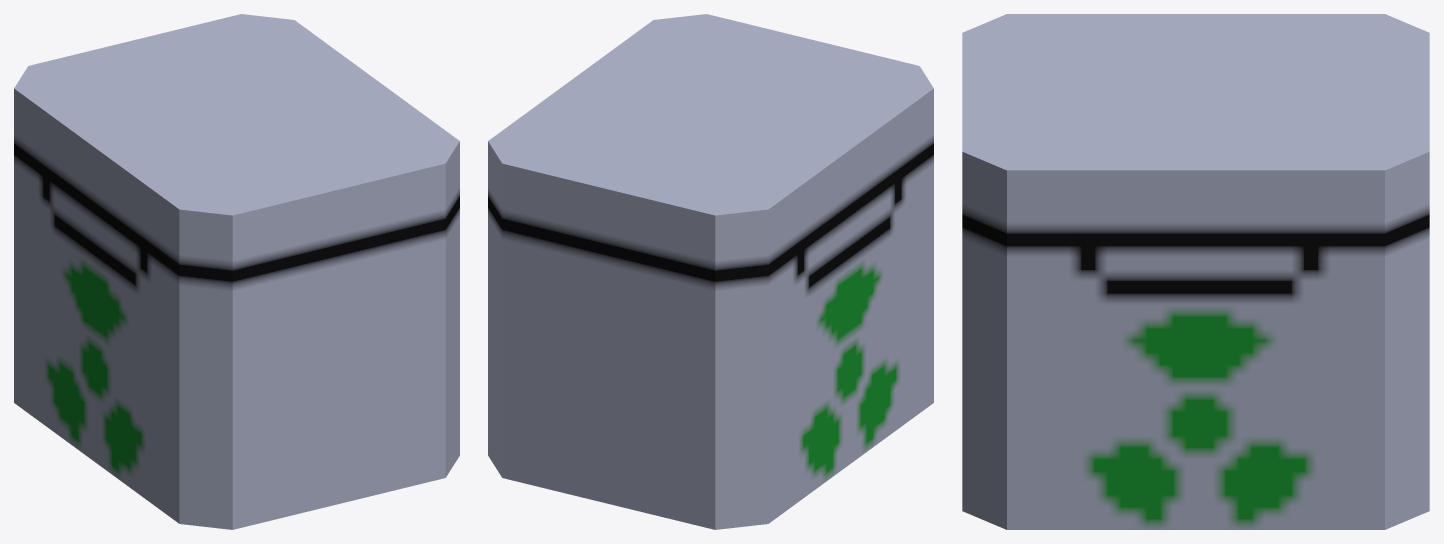
3 renders of one model, left to right at view 1: azimuth 30°, elevation 25°; view 2: azimuth 150°, elevation 25°; view 3: azimuth 270°, elevation 25°, orthographic. The views are drawn at different scales.
Parts seen in each view (by area): view 1: Куб.147; view 2: Куб.147; view 3: Куб.147.
Boxes of the visible parts, <box> form: Куб.147: <box>14,14,459,529</box>; Куб.147: <box>488,14,933,529</box>; Куб.147: <box>962,14,1429,529</box>.
Size of the model in its own units: 57.24 by 61.31 by 72.23.
